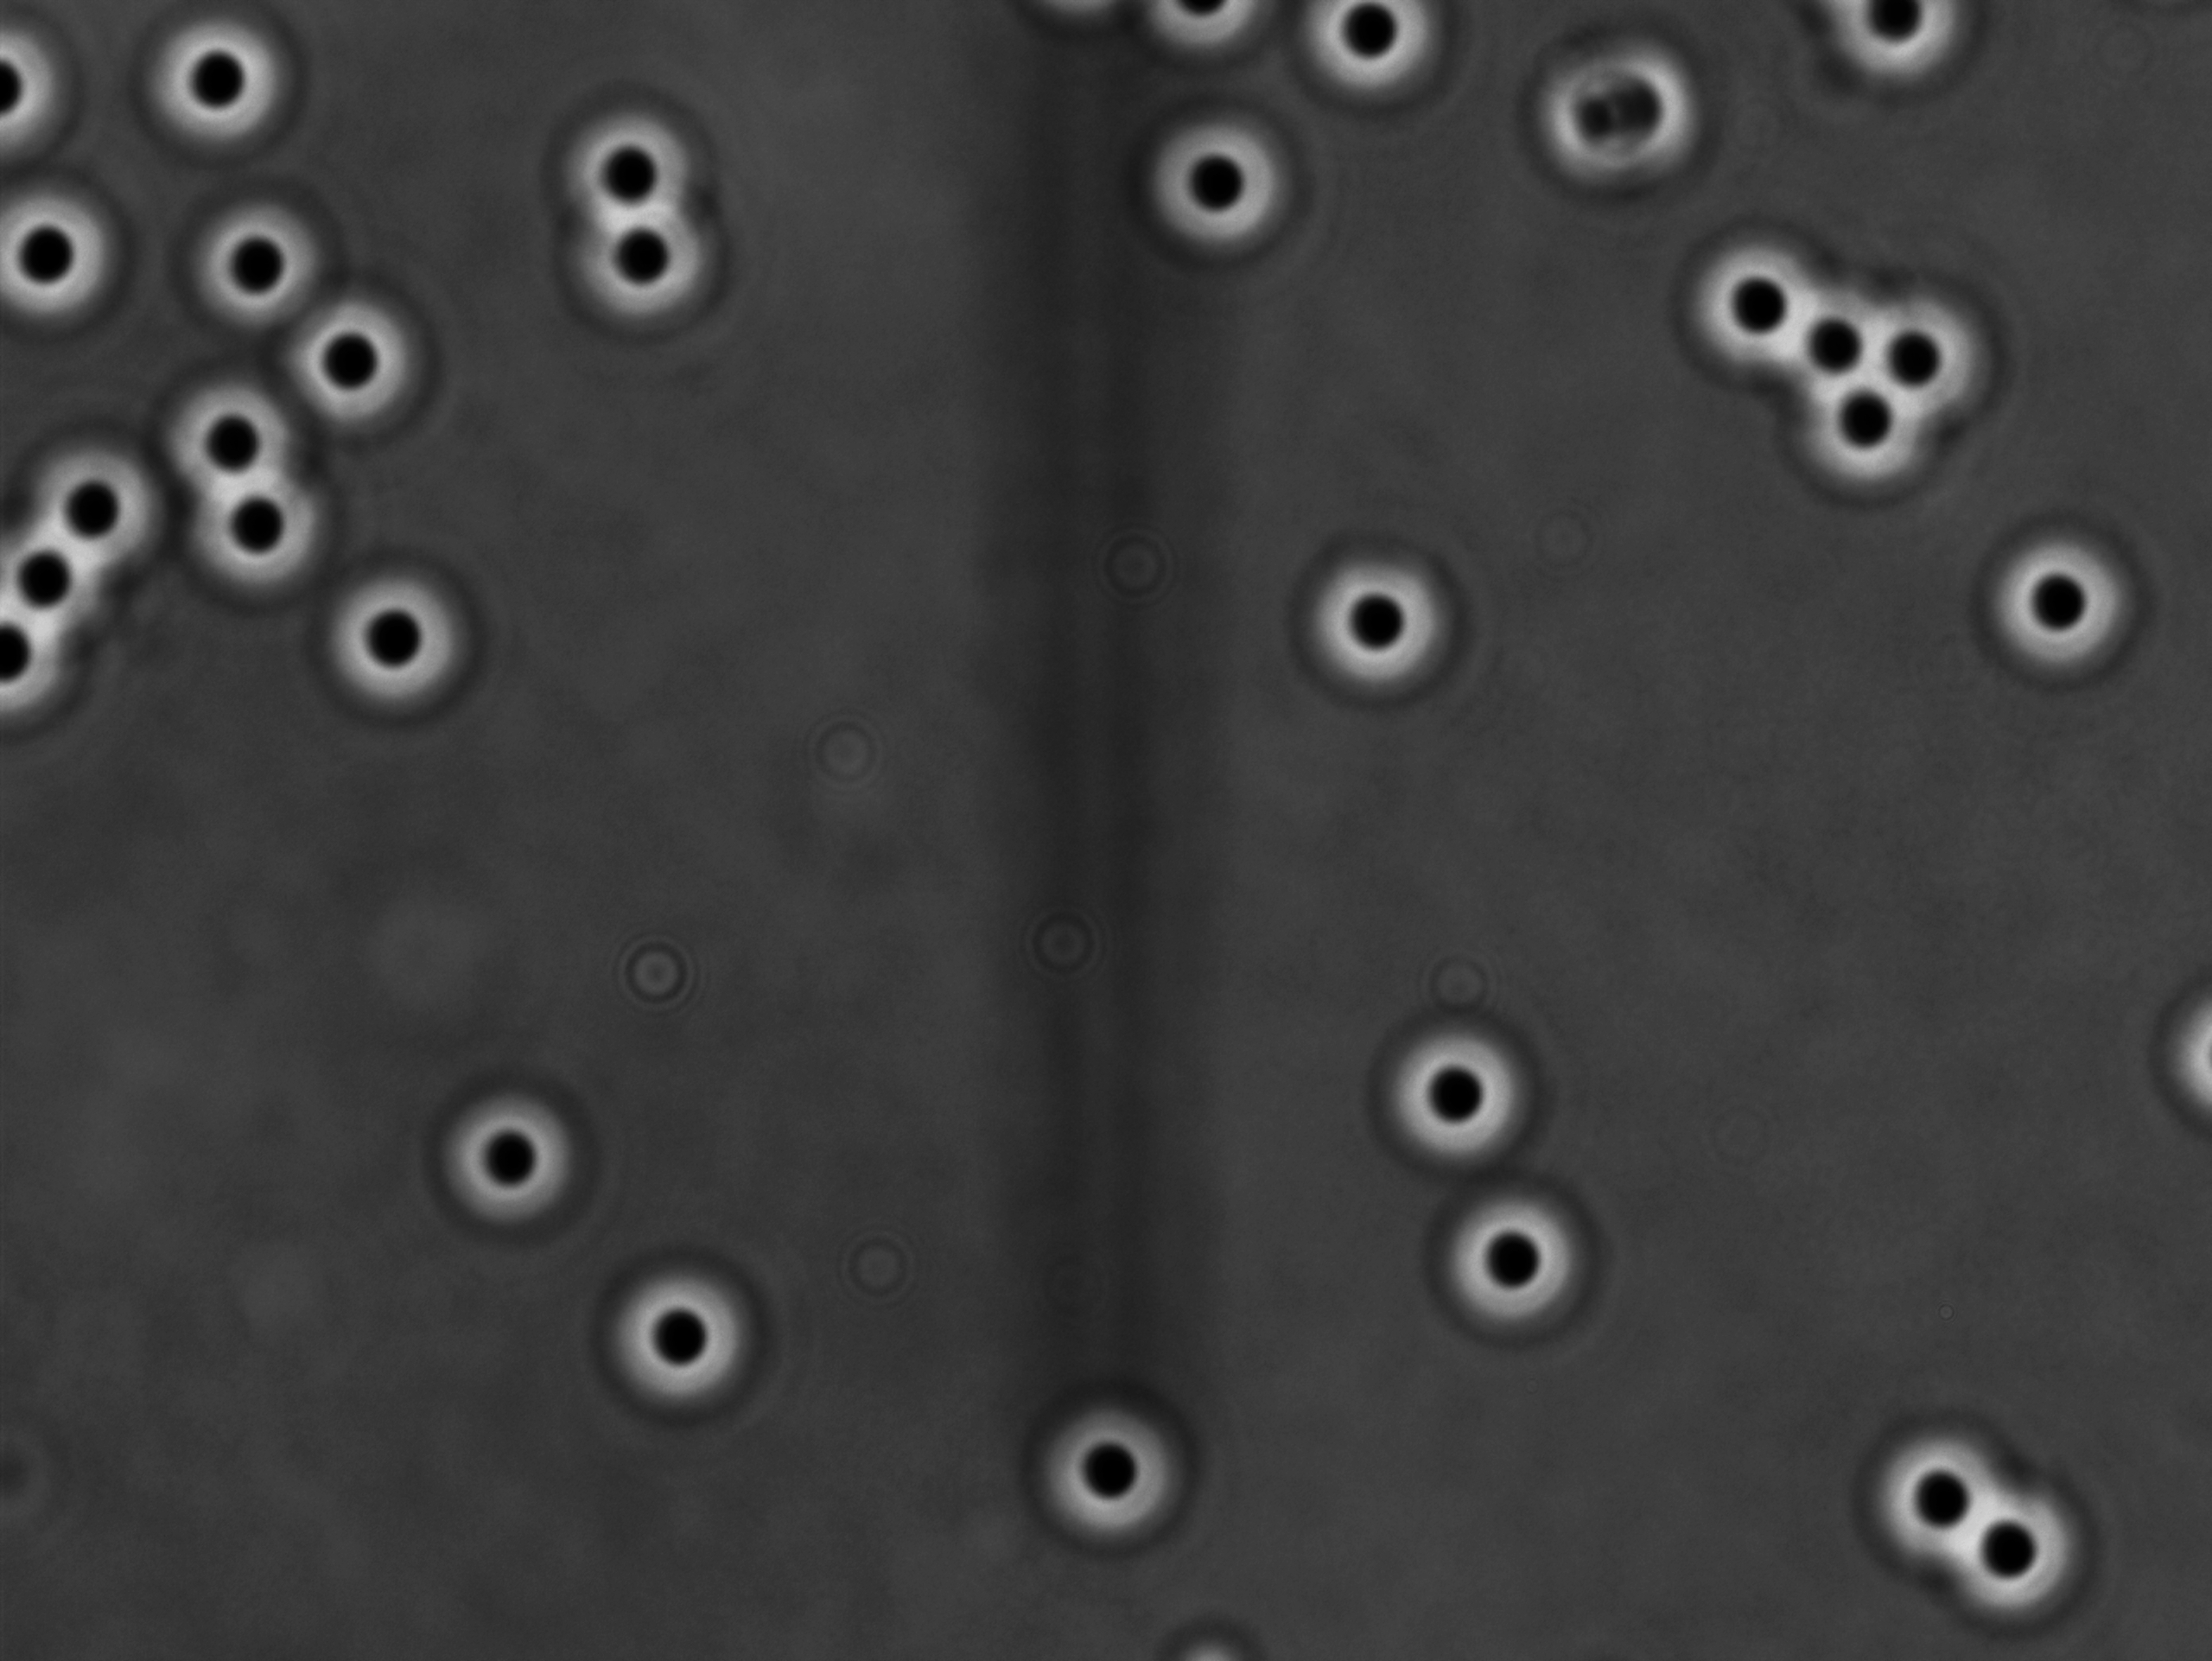depth:-60: (1959, 518, 2163, 700), (1296, 523, 1485, 715), (1423, 1171, 1612, 1356), (1359, 1000, 1551, 1174), (1835, 258, 2022, 433), (591, 1241, 764, 1418), (10, 424, 190, 595), (1779, 359, 1966, 523), (1666, 202, 1833, 372), (1015, 1394, 1190, 1553), (548, 80, 715, 241), (1137, 112, 1307, 270), (143, 5, 309, 166), (267, 291, 434, 448), (181, 452, 351, 604), (562, 197, 729, 342), (178, 195, 335, 349), (434, 1083, 593, 1235), (309, 560, 462, 710), (1764, 265, 1917, 415), (152, 366, 312, 509)
